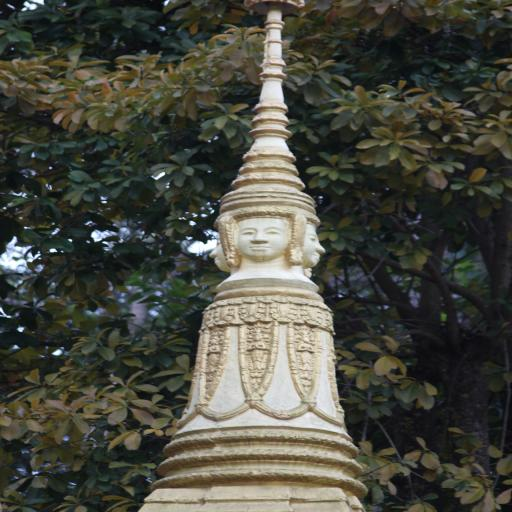la: (299, 302, 325, 325), (209, 304, 234, 326), (270, 302, 296, 322), (242, 302, 264, 323)
than: (213, 203, 328, 283)
